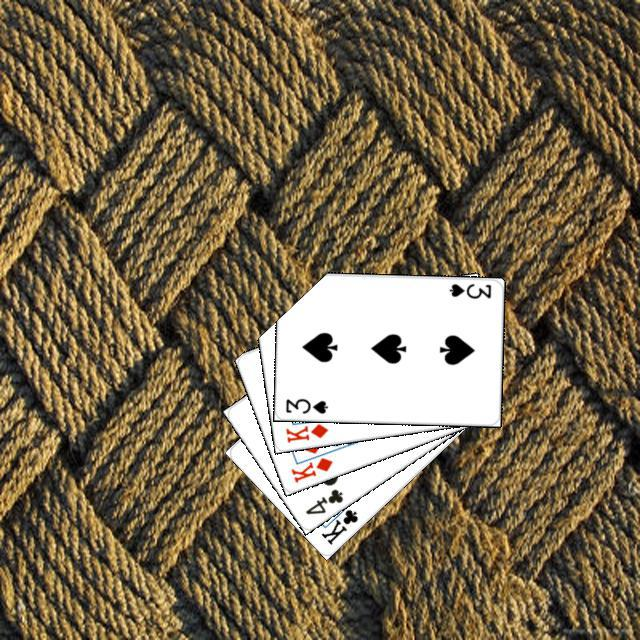3s: (444, 279, 493, 301), (281, 394, 329, 415)
4c: (300, 484, 345, 516)
Kc: (316, 496, 360, 547)
Kd: (286, 452, 334, 484), (281, 419, 330, 444)
